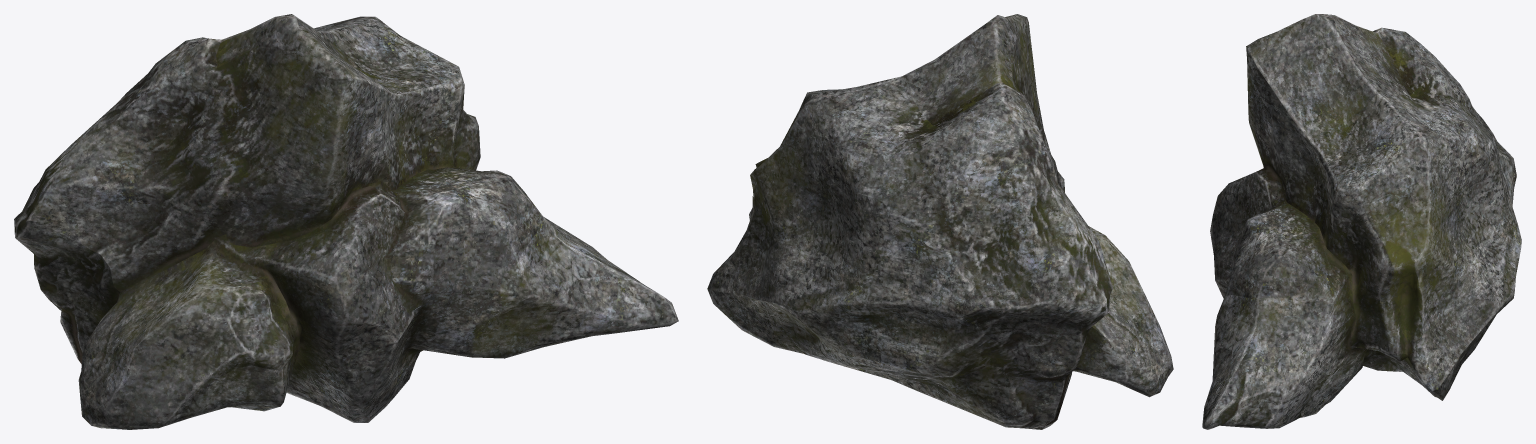
Rendered from SM_rock_01.fbx.
3 renders of one model, left to right at view 1: azimuth 30°, elevation 25°; view 2: azimuth 150°, elevation 25°; view 3: azimuth 270°, elevation 25°, orthographic. The views are drawn at different scales.
Visible parts, largest first — view 1: SM_rock_01; view 2: SM_rock_01; view 3: SM_rock_01.
Boxes of the visible parts, x1=… form: SM_rock_01: x1=14, y1=14, x2=678, y2=429; SM_rock_01: x1=707, y1=14, x2=1173, y2=429; SM_rock_01: x1=1202, y1=14, x2=1521, y2=429.
Bounding box in the file's own units: 372 × 274 × 233.
